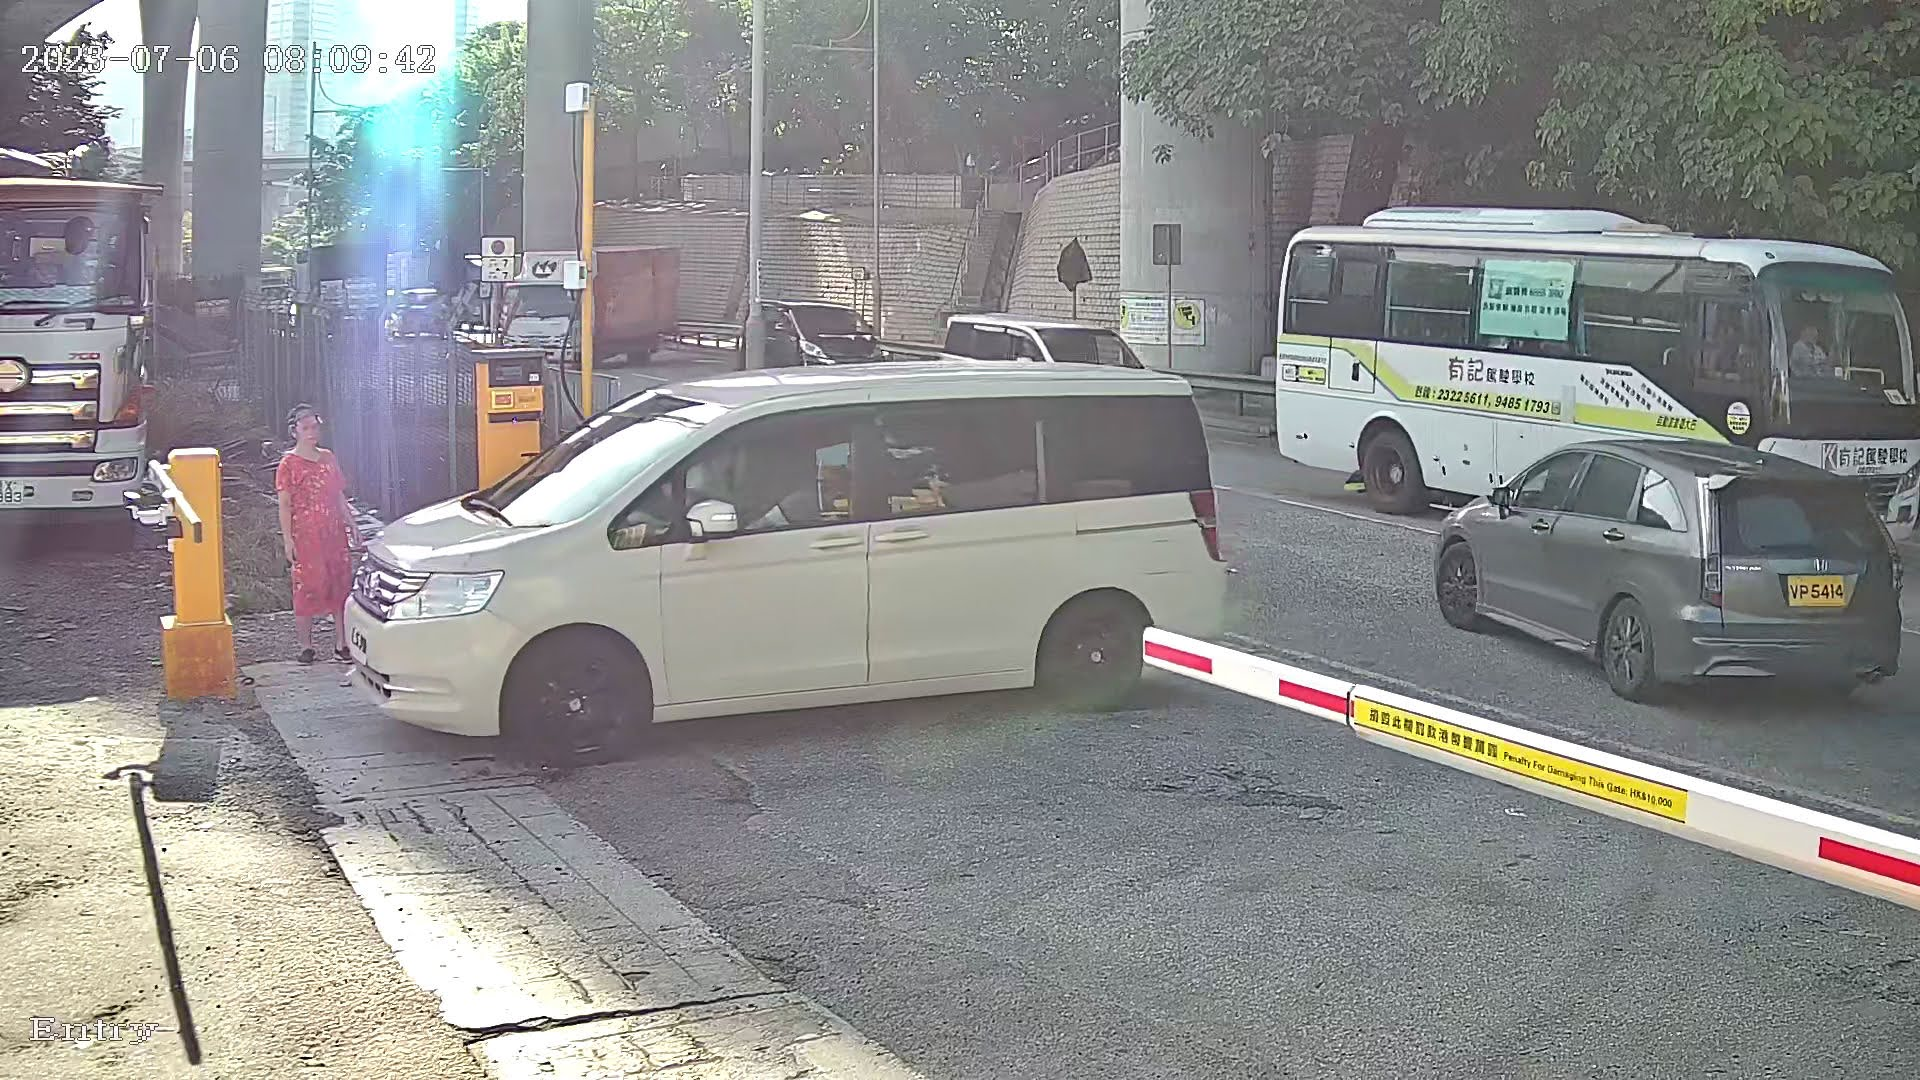privatecar: (305, 280, 1304, 799)
